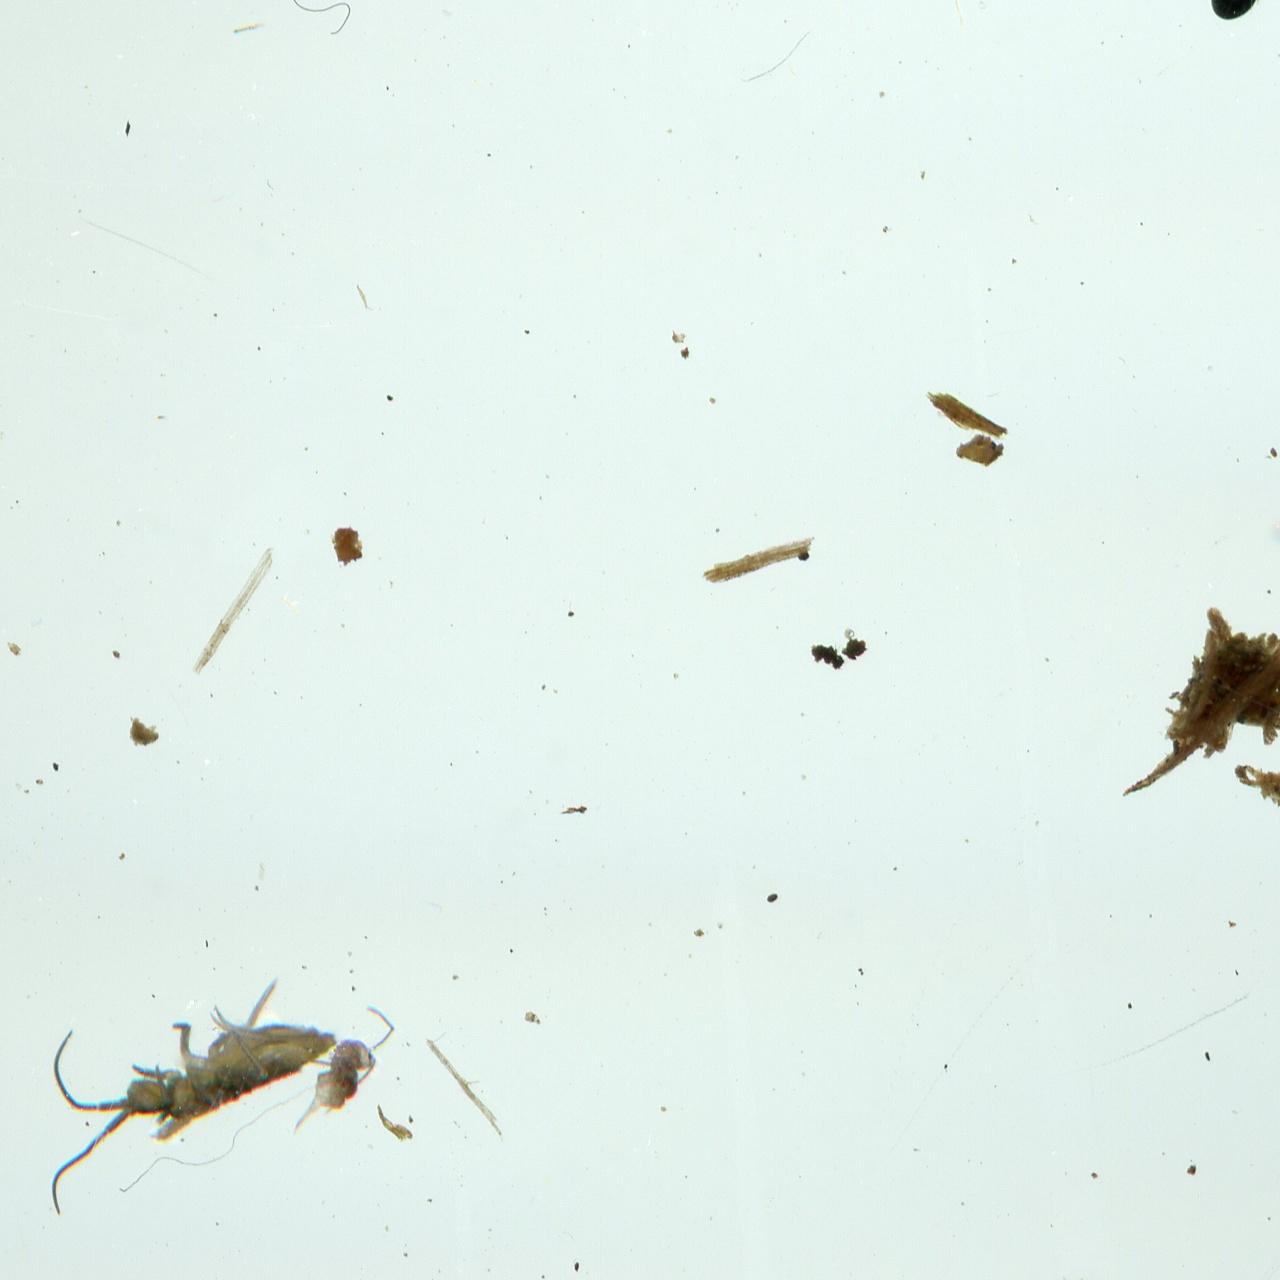arthropod: (0, 923, 364, 1222), (268, 986, 407, 1162), (1209, 0, 1265, 22)
